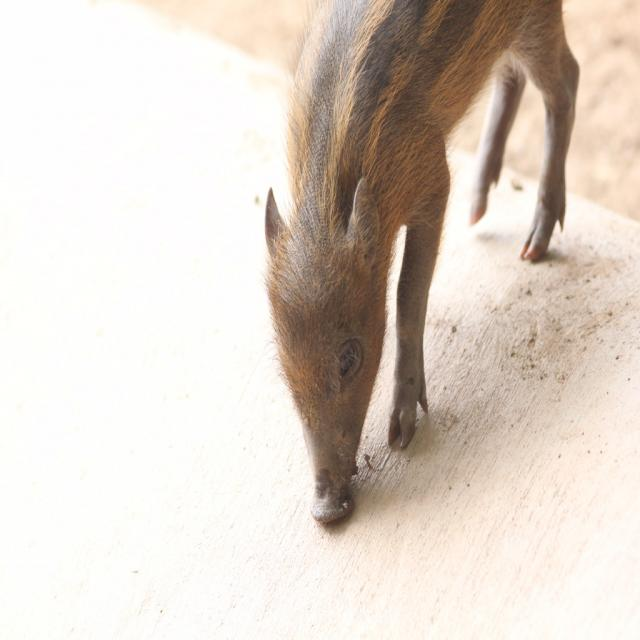Pig: (262, 0, 584, 521)
